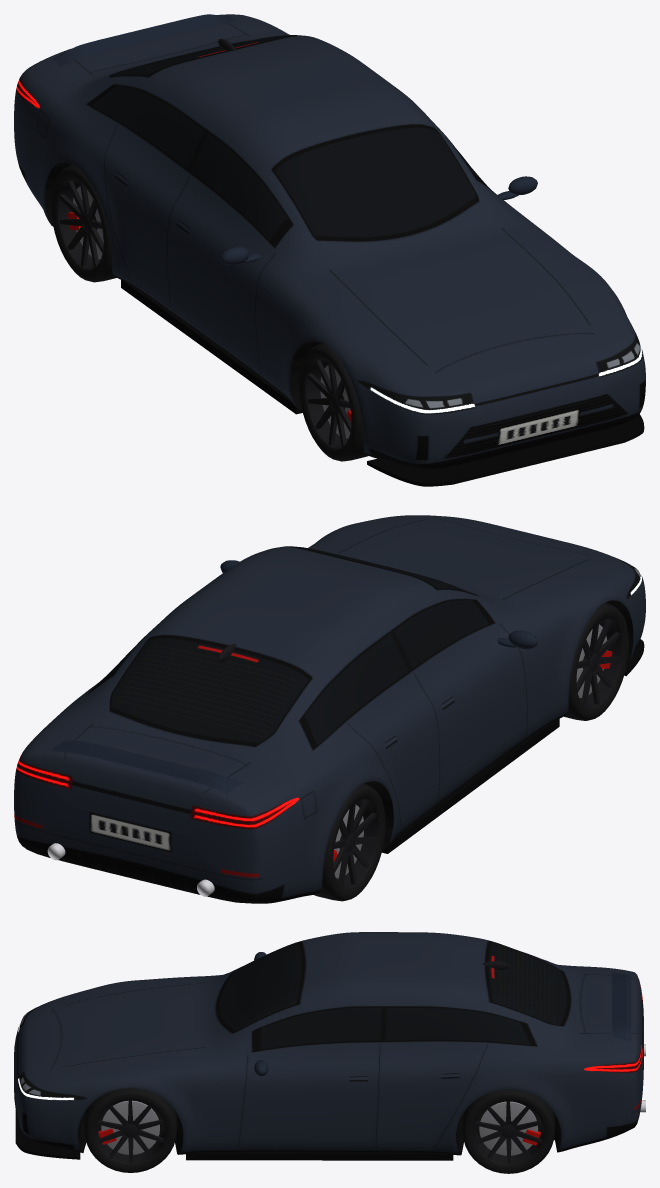
The model's file is car_marshal.glb.
3 renders of one model, top to bottom at view 1: azimuth 30°, elevation 25°; view 2: azimuth 150°, elevation 25°; view 3: azimuth 270°, elevation 25°, orthographic. The views are drawn at different scales.
Visible parts, largest first — view 1: Body, Wheel_FR, Wheel_RR; view 2: Body, Wheel_RR, Wheel_FR; view 3: Body, Wheel_FL, Wheel_RL.
Boxes of the visible parts, box(x1,y1,x2,y2) form: Body: box(14, 14, 645, 486); Wheel_FR: box(299, 343, 368, 461); Wheel_RR: box(51, 165, 116, 282); Body: box(14, 515, 645, 903); Wheel_RR: box(313, 784, 385, 901); Wheel_FR: box(564, 603, 628, 720); Body: box(14, 932, 645, 1160); Wheel_FL: box(84, 1088, 176, 1172); Wheel_RL: box(462, 1089, 554, 1173).
Bounding box in the file's own units: 2.12 × 1.4 × 4.77.
10 materials, 1 textured.
